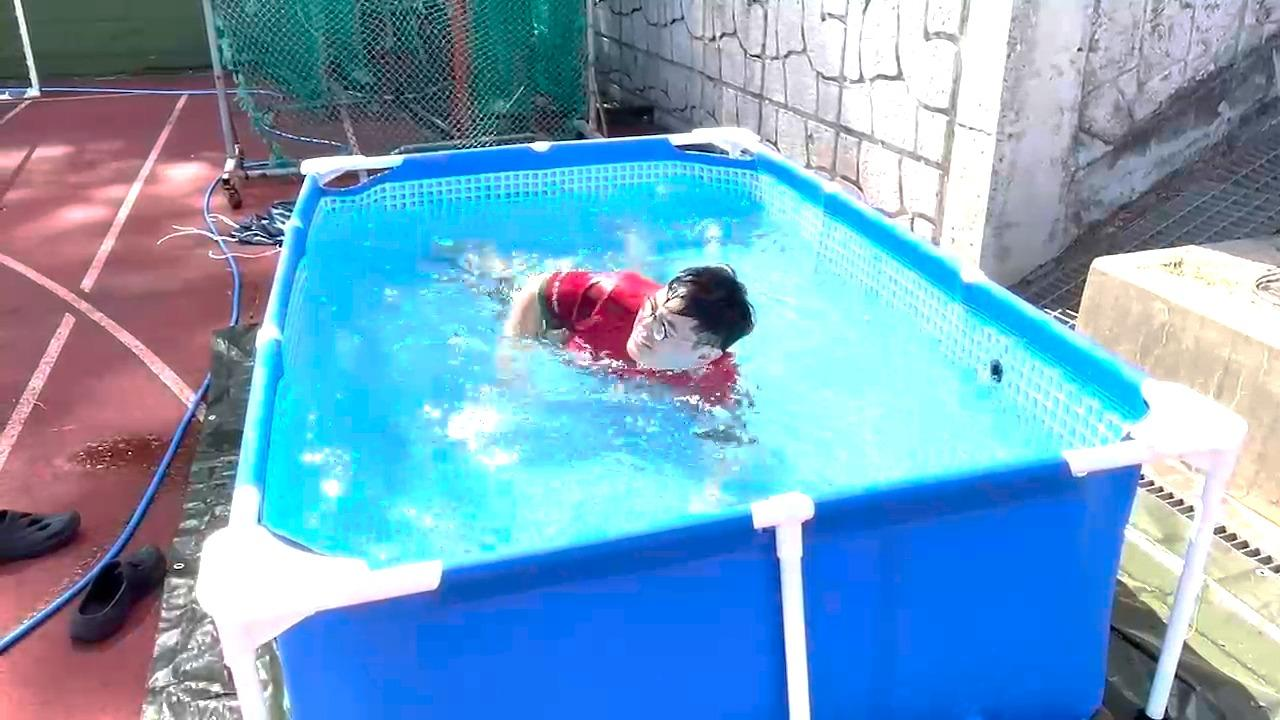Swimming: (438, 213, 779, 462)
